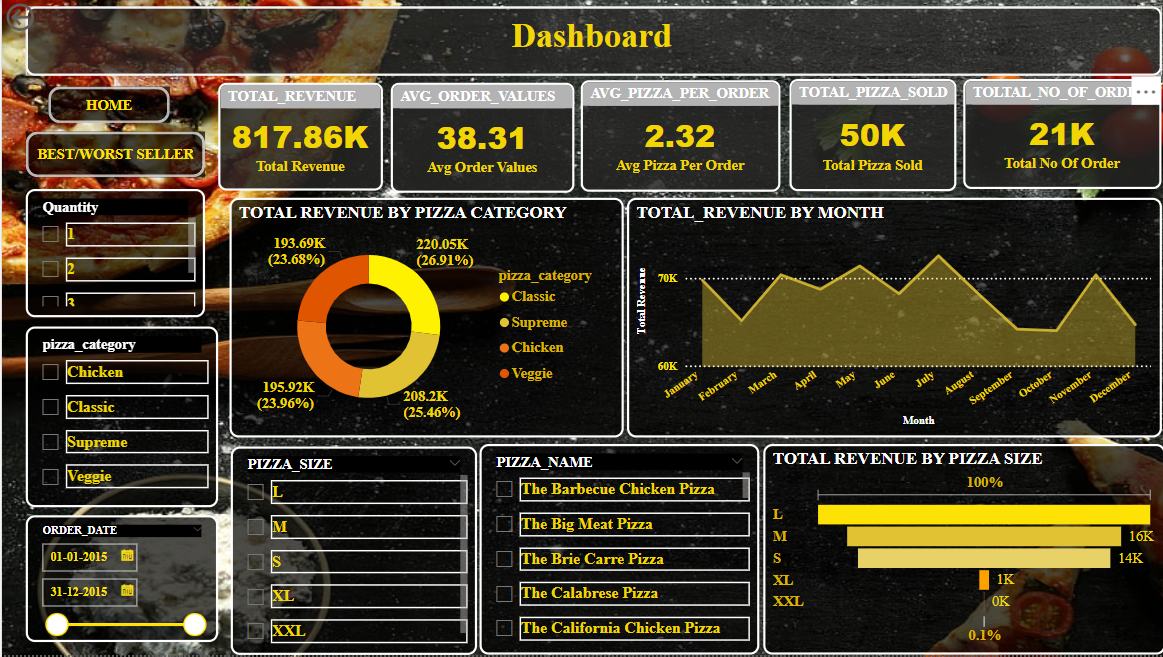

Layout of this report page (visuals, bound fields, positions):
{"tool":"powerbi","page":{"name":"Dashboard","canvas":[1280,720],"ordinal":1},"visuals":[{"type":"slicer","title":"PIZZA_SIZE","fields":{"Values":["pizza_sales.pizza_size"]},"box":[250.7,491.3,270.2,228.7],"z":0},{"type":"card","title":"TOTAL_REVENUE","fields":{"Values":["measures (2).TOTAL_REVENUE"]},"box":[237.2,91.7,181,118.6],"z":1000},{"type":"slicer","title":"PIZZA_NAME","fields":{"Values":["pizza_sales.pizza_name"]},"box":[524.6,488.9,306.9,231.1],"z":2000},{"type":"card","title":"TOLTAL_NO_OF_ORDER","fields":{"Values":["measures (2).TOTAL_NO_OF_ORDER"]},"box":[1055.3,88,217.7,121.1],"z":3000},{"type":"slicer","title":"ORDER_DATE","fields":{"Values":["pizza_sales.order_date"]},"box":[25.7,566.2,211.6,139.4],"z":4000},{"type":"card","title":"AVG_ORDER_VALUES","fields":{"Values":["measures (2).AVG_ORDER_VALUES"]},"box":[426.8,91.7,201.8,121.1],"z":5000},{"type":"funnel","title":"TOTAL REVENUE  BY PIZZA SIZE","fields":{"Category":["pizza_sales.pizza_size"],"Y":["Sum(pizza_sales.quantity)"]},"box":[835.2,489.1,441.4,231.1],"z":6000},{"type":"card","title":"TOTAL_PIZZA_SOLD","fields":{"Values":["measures (2).TOTAL_PIZZA_SOLD"]},"box":[864.5,88,183.4,123.5],"z":7000},{"type":"textbox","box":[25.7,8.6,1247.3,75.8],"z":8000},{"type":"card","title":"AVG_PIZZA_PER_ORDER","fields":{"Values":["measures (2).AVG_PIZZA_PER_ORDER"]},"box":[635.9,89.3,218.9,122.3],"z":9000},{"type":"areaChart","title":"TOTAL_REVENUE BY MONTH","fields":{"Category":["pizza_sales.order_date.Variation.Date Hierarchy.Month"],"Y":["measures (2).Total Revenue"]},"box":[686,217.7,587,262.9],"z":10000},{"type":"donutChart","title":"TOTAL REVENUE BY PIZZA CATEGORY","fields":{"Category":["pizza_sales.pizza_category"],"Y":["Sum(pizza_sales.total_price)"]},"box":[249.5,217.7,432.9,262.9],"z":11000},{"type":"actionButton","box":[0,0,100,40],"z":12000},{"type":"slicer","fields":{"Values":["pizza_sales.pizza_category"]},"box":[25.7,359.5,211.6,198.1],"z":13000},{"type":"actionButton","box":[50.1,96.6,133.3,40.4],"z":14000},{"type":"actionButton","box":[25.7,145.5,196.9,50.1],"z":15000},{"type":"slicer","fields":{"Values":["pizza_sales.quantity"]},"box":[25.7,209.1,196.9,140.6],"z":16000}]}

Visuals, with their boxes in screenshot pixels (x1, y1, x2, y2), scaled from the page's 1280x720 canvas onto the 1163x657 screenshot:
"PIZZA_SIZE" slicer: BBox(228, 448, 473, 656)
"TOTAL_REVENUE" card: BBox(216, 84, 380, 192)
"PIZZA_NAME" slicer: BBox(477, 446, 755, 656)
"TOLTAL_NO_OF_ORDER" card: BBox(959, 80, 1157, 191)
"ORDER_DATE" slicer: BBox(23, 517, 216, 644)
"AVG_ORDER_VALUES" card: BBox(388, 84, 571, 194)
"TOTAL REVENUE  BY PIZZA SIZE" funnel: BBox(759, 446, 1160, 656)
"TOTAL_PIZZA_SOLD" card: BBox(785, 80, 952, 193)
textbox: BBox(23, 8, 1157, 77)
"AVG_PIZZA_PER_ORDER" card: BBox(578, 81, 777, 193)
"TOTAL_REVENUE BY MONTH" areaChart: BBox(623, 199, 1157, 439)
"TOTAL REVENUE BY PIZZA CATEGORY" donutChart: BBox(227, 199, 620, 439)
actionButton: BBox(0, 0, 91, 36)
slicer - pizza_sales.pizza_category: BBox(23, 328, 216, 509)
actionButton: BBox(46, 88, 167, 125)
actionButton: BBox(23, 133, 202, 178)
slicer - pizza_sales.quantity: BBox(23, 191, 202, 319)
